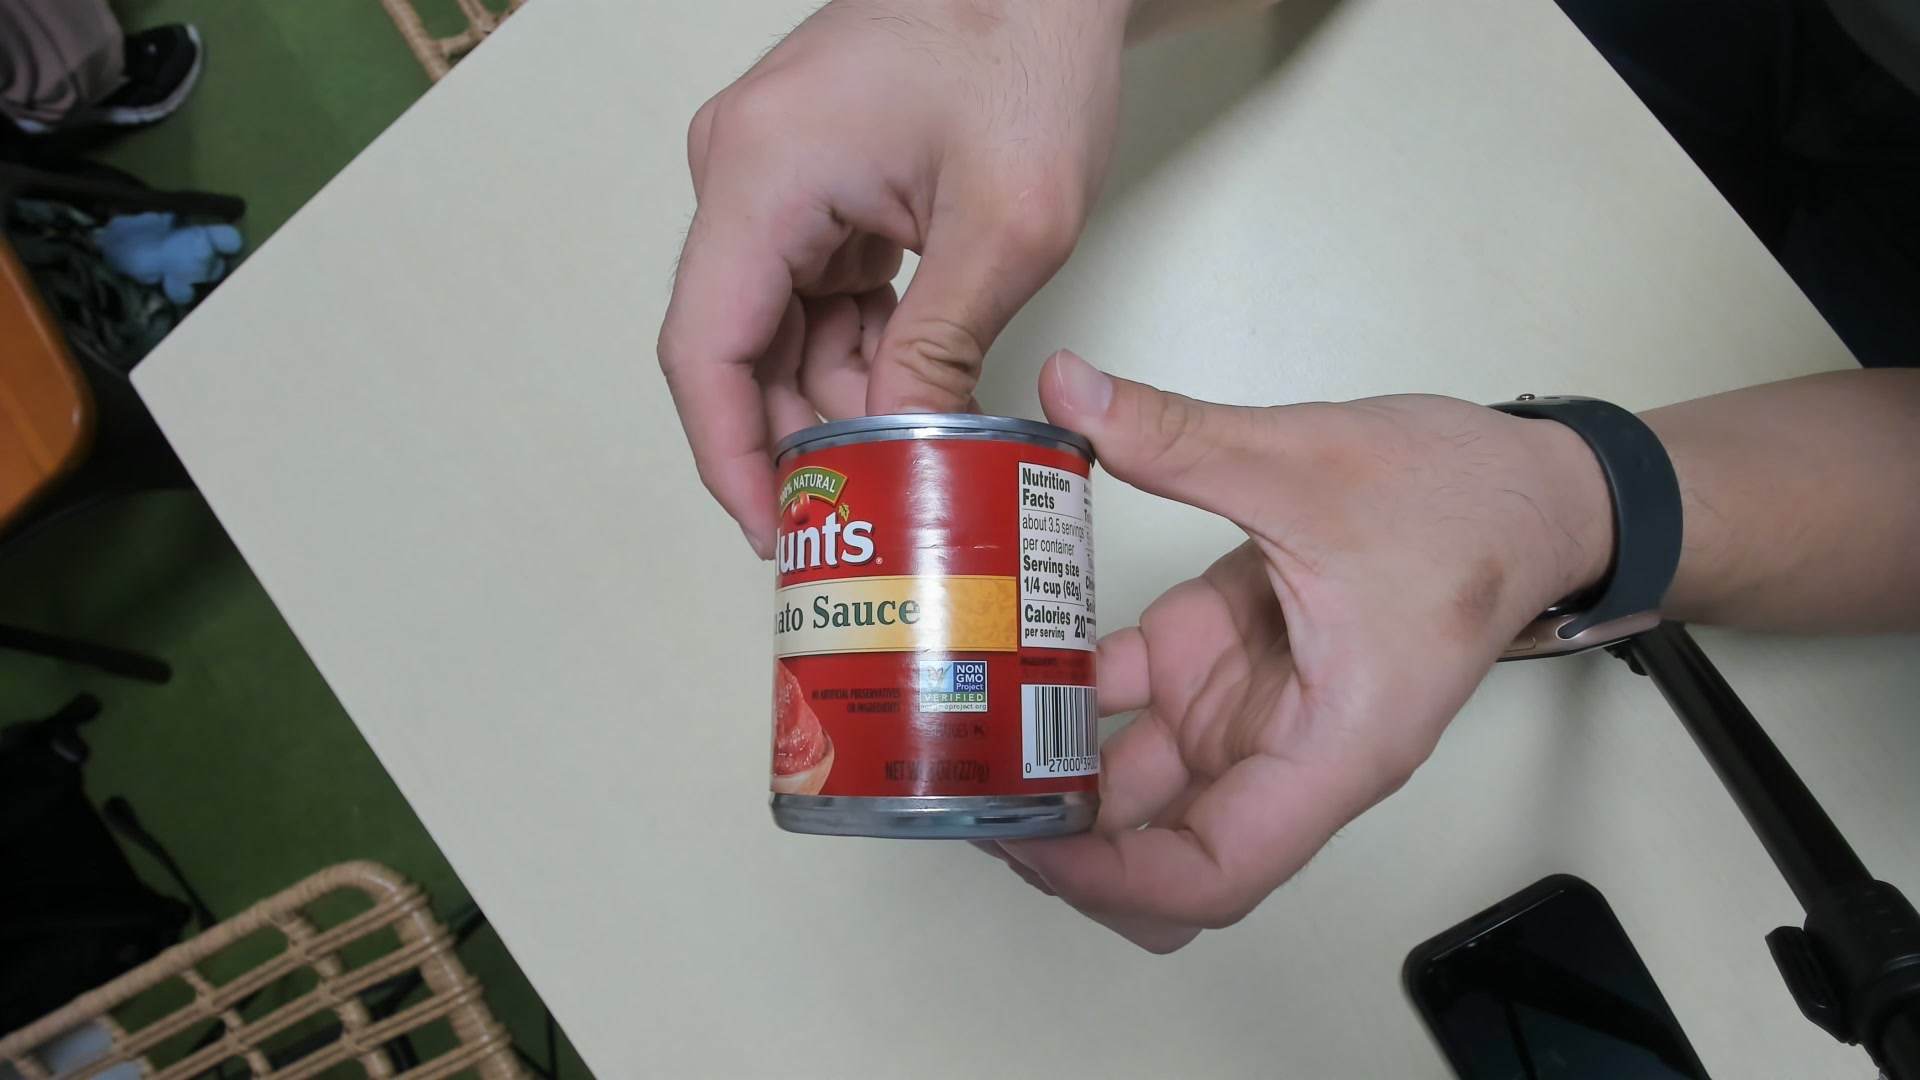OtherSauceDressing_200-299g_NonHalal_NonHealthy: (761, 411, 1098, 837)
